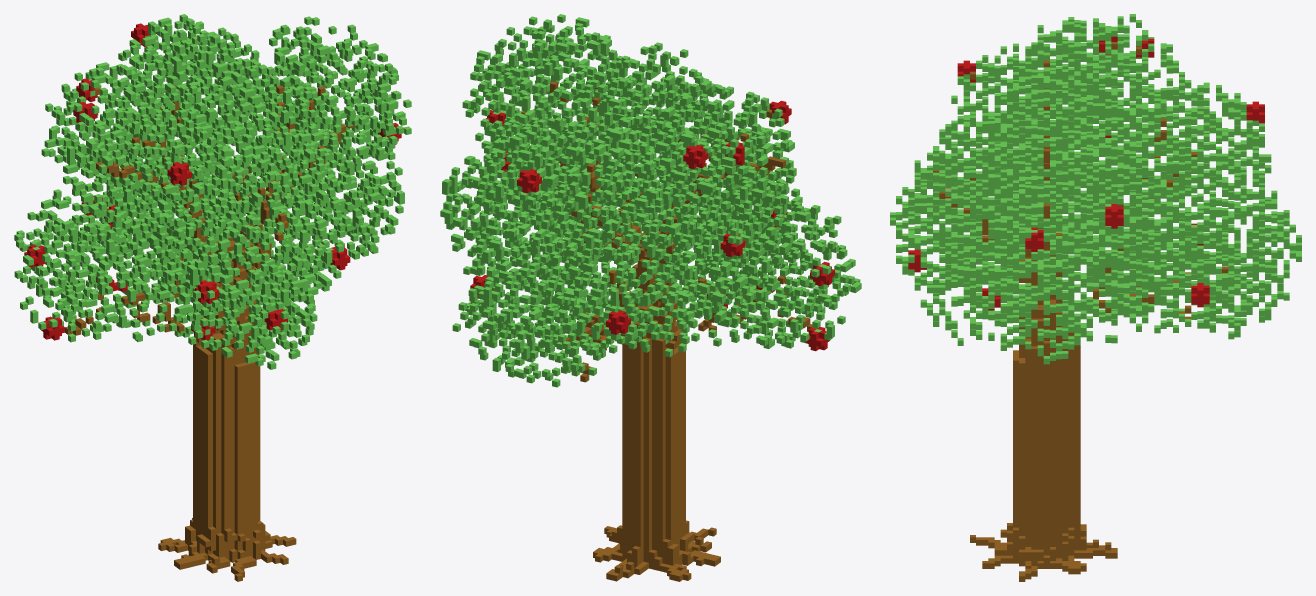
The model's file is circulo_para_arbol-3.obj.
The picture shows the model from 3 angles, left to right: view 1: azimuth 30°, elevation 25°; view 2: azimuth 150°, elevation 25°; view 3: azimuth 270°, elevation 25°; orthographic projection. The views are drawn at different scales.
Bounding box in the file's own units: 7.2 × 9.4 × 6.7.
1 material, 1 textured.
